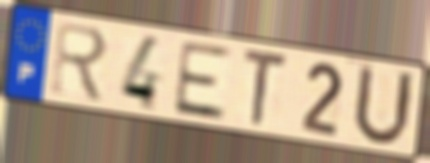2: (299, 61, 346, 140)
4: (114, 33, 165, 114)
E: (169, 38, 232, 123)
R: (49, 19, 111, 107)
T: (241, 46, 290, 130)
U: (350, 61, 417, 150)
